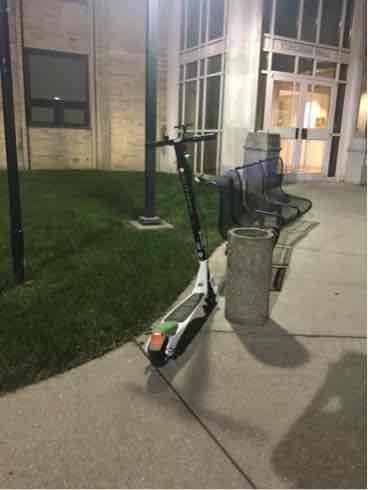scooter: (134, 134, 228, 375)
